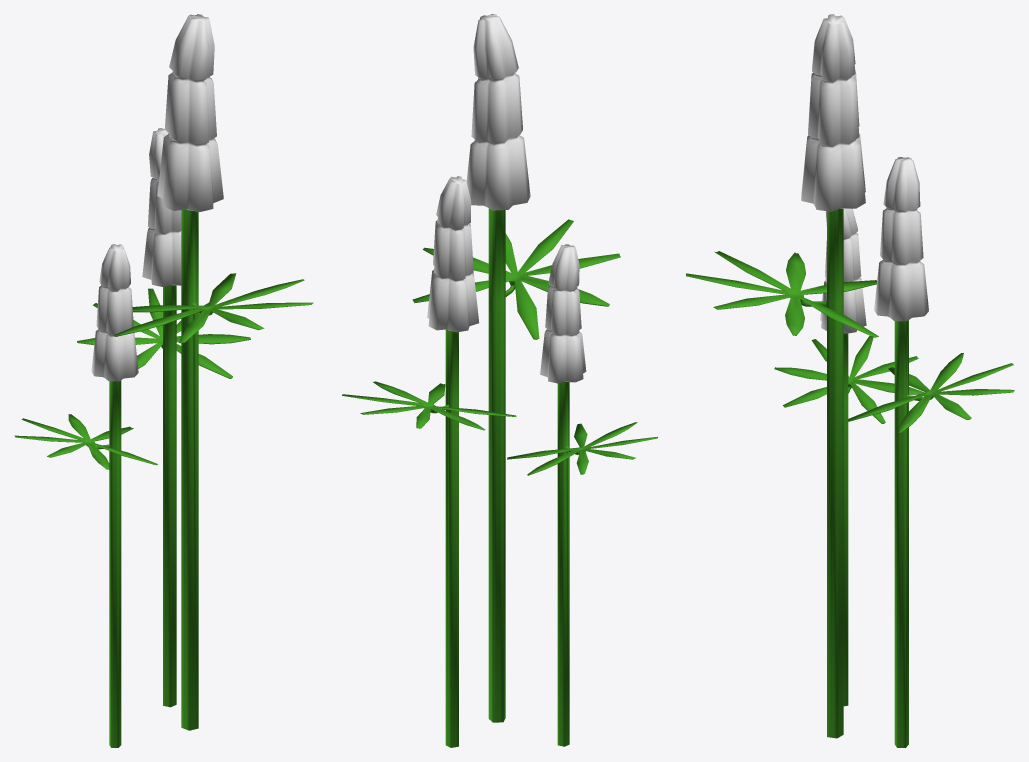
Rendered from Lupiini(1).fbx.
3 renders of one model, left to right at view 1: azimuth 30°, elevation 25°; view 2: azimuth 150°, elevation 25°; view 3: azimuth 270°, elevation 25°, orthographic. The views are drawn at different scales.
Visible parts, largest first — view 1: Lupiini; view 2: Lupiini; view 3: Lupiini.
Part boxes in pixels (bbox=[...]): Lupiini: bbox=[14, 14, 313, 747]; Lupiini: bbox=[342, 14, 657, 747]; Lupiini: bbox=[686, 14, 1014, 747].
Bounding box in the file's own units: 50.43 × 137 × 56.13.
